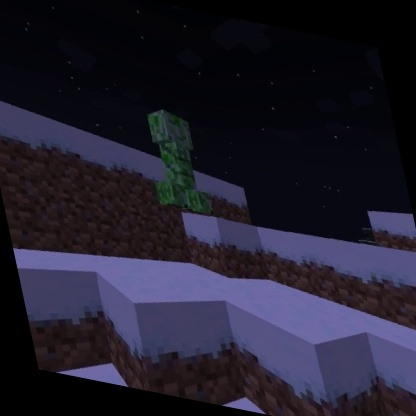creeper: (136, 103, 217, 220)
